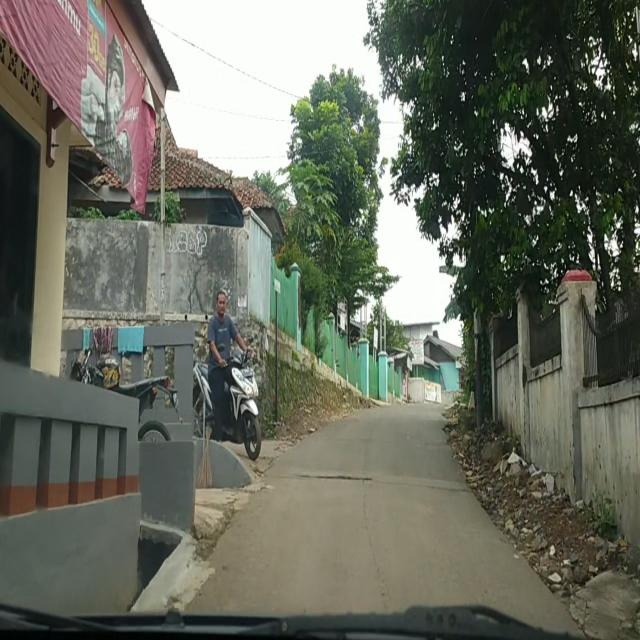Sewer Cover: (291, 468, 375, 482)
